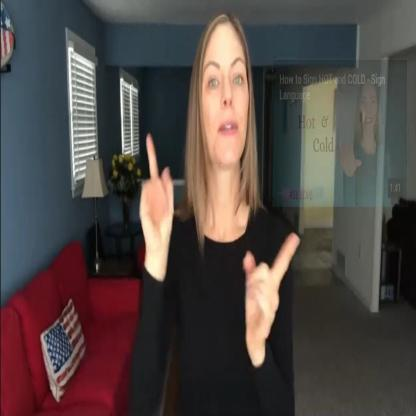NiceToMeetYou: (127, 5, 298, 416)
